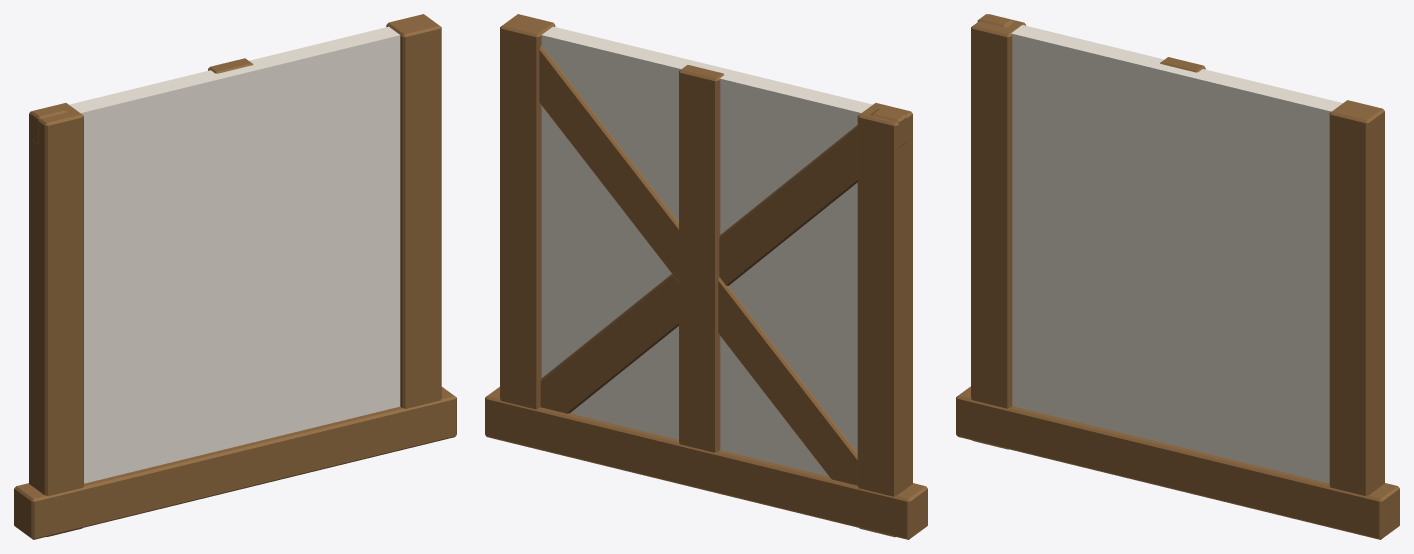
File: WallCrossXV.fbx
3 views of the same model, side by side, from view 1: azimuth 30°, elevation 25°; view 2: azimuth 150°, elevation 25°; view 3: azimuth 330°, elevation 25° (orthographic).
Parts seen in each view (by area): view 1: Cube.052, Cube.058, Cube.061, Cube.057; view 2: Cube.052, Cube.058, Cube.061, Cube.056, Cube.057, Cube.060, Cube.055; view 3: Cube.052, Cube.057, Cube.061, Cube.058.
Boxes of the visible parts, box(x1,y1,x2,y2) form: Cube.052: box(69, 26, 400, 483); Cube.058: box(29, 103, 83, 536); Cube.061: box(14, 387, 456, 539); Cube.057: box(386, 14, 441, 408); Cube.052: box(541, 26, 872, 476); Cube.058: box(857, 103, 912, 537); Cube.061: box(485, 387, 927, 539); Cube.056: box(539, 45, 857, 485); Cube.057: box(500, 14, 555, 409); Cube.060: box(540, 109, 906, 413); Cube.055: box(679, 65, 723, 452); Cube.052: box(1011, 25, 1342, 483); Cube.057: box(1329, 100, 1384, 495); Cube.061: box(956, 386, 1399, 539); Cube.058: box(971, 14, 1026, 449).
Bounding box in the file's own units: 216 × 202 × 17.27.
